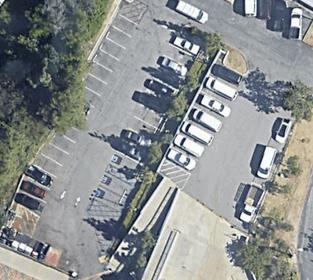parkingspot: (13, 12, 141, 218), (106, 29, 203, 179), (163, 59, 247, 177), (235, 117, 297, 229), (232, 0, 313, 45), (90, 169, 136, 215)
